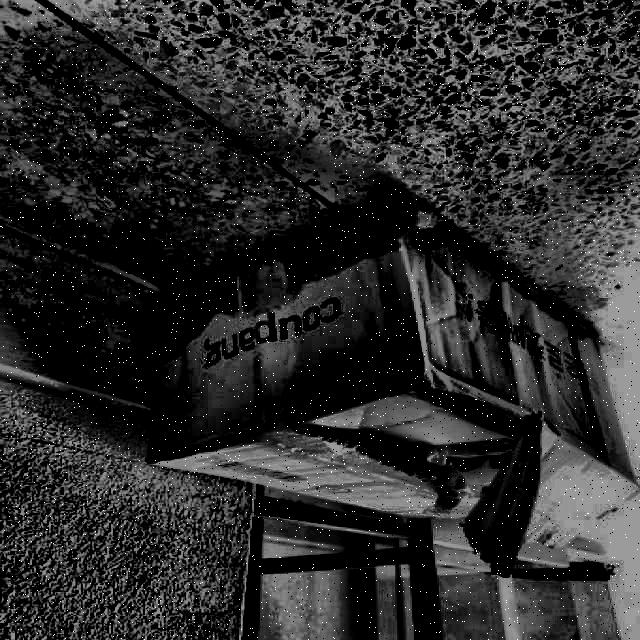box: (134, 175, 640, 593)
hole: (299, 399, 565, 546)
wet: (144, 185, 440, 367)
